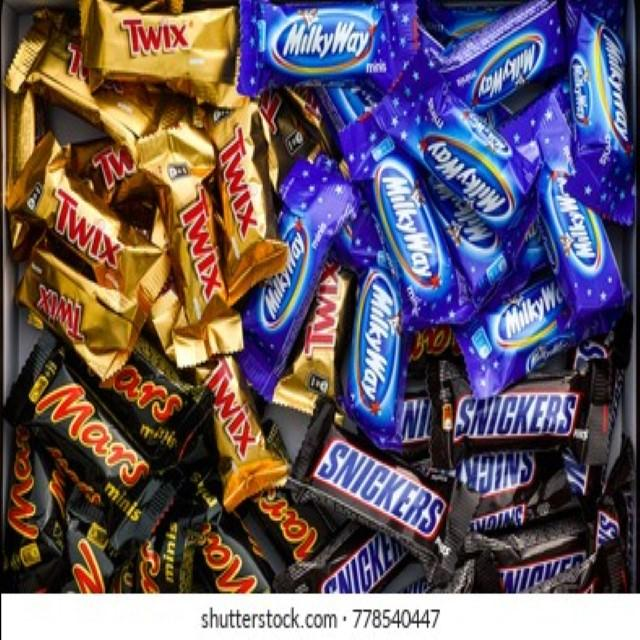mars_chocolate: (20, 345, 137, 500), (3, 426, 88, 592), (110, 325, 207, 455), (190, 512, 265, 602), (262, 482, 330, 562)
snickers_chocolate: (318, 417, 462, 550), (450, 352, 588, 428), (462, 437, 628, 483), (304, 533, 434, 582), (495, 554, 618, 604)
